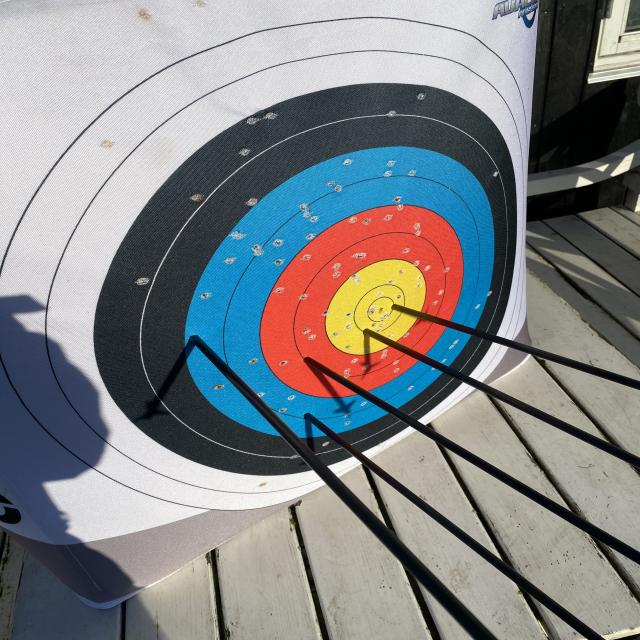Arrow_Blue: (184, 319, 221, 356), (298, 402, 330, 432)
Arrow_Red: (285, 346, 330, 373)
Arrow_Yellow: (355, 317, 386, 351), (385, 296, 421, 325)
